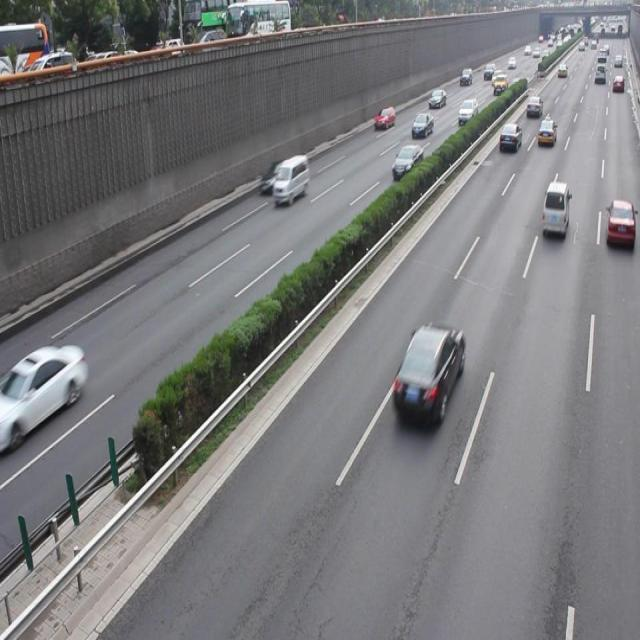car: (0, 342, 86, 444), (391, 321, 464, 424), (605, 198, 640, 250), (390, 143, 422, 178), (258, 159, 286, 195)
truck: (273, 153, 308, 205), (540, 180, 568, 236)
